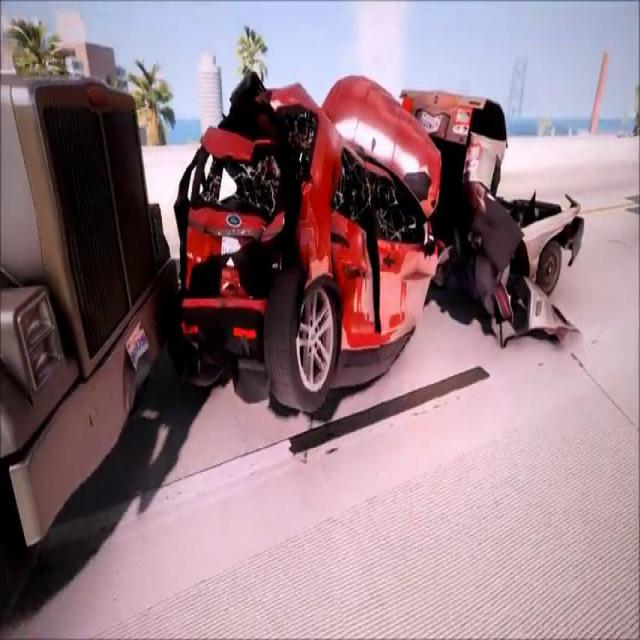accident: (0, 51, 598, 585)
